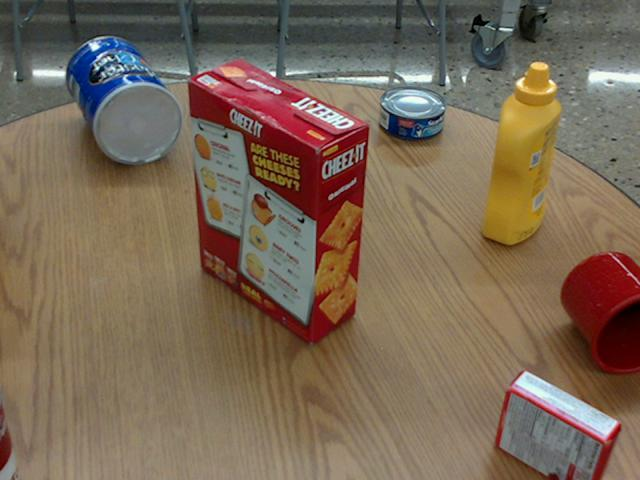cracker_box: (190, 61, 371, 342)
gelatin_box: (495, 371, 621, 479)
master_chef_can: (68, 38, 184, 165)
mug: (560, 251, 639, 373)
mustard_bottle: (482, 62, 561, 242)
potted_meat_can: (260, 86, 341, 197)
tomato_soup_can: (0, 382, 26, 479)
tuna_fish_can: (379, 84, 446, 139)
